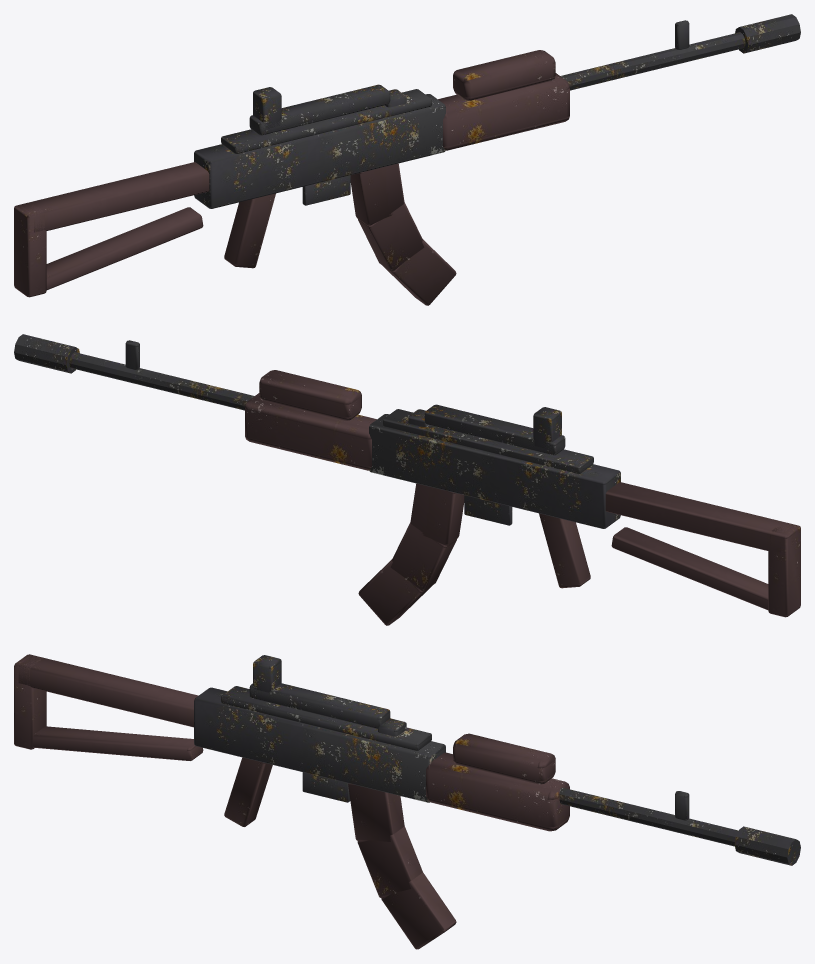
File: held_weapon_an94.glb
3 renders of one model, top to bottom at view 1: azimuth 30°, elevation 25°; view 2: azimuth 150°, elevation 25°; view 3: azimuth 330°, elevation 25°, orthographic.
Visible parts, largest first — view 1: box, box.011, box.002, box.013, box.003, cyl, box.001, box.014, box.012, box.007, box.008, box.006 (+4 smaller); view 2: box, box.011, box.002, box.013, box.003, cyl, box.001, box.014, box.012, box.007, box.008, box.006 (+4 smaller); view 3: box, box.002, box.011, box.013, box.003, cyl, box.009, box.001, box.014, box.008, box.007, box.012 (+4 smaller).
Boxes of the visible parts, x1,y1,x2,y2 form: box: (194, 94, 445, 208); box.011: (19, 162, 209, 232); box.002: (438, 73, 569, 150); box.013: (46, 207, 203, 289); box.003: (453, 50, 555, 100); cyl: (560, 32, 745, 90); box.001: (221, 89, 431, 153); box.014: (249, 84, 390, 135); box.012: (14, 204, 46, 297); box.007: (350, 163, 404, 225); box.008: (358, 203, 424, 271); box.006: (224, 193, 275, 268); box: (369, 414, 620, 528); box.011: (605, 482, 795, 552); box.002: (245, 393, 376, 470); box.013: (611, 527, 768, 609); box.003: (259, 370, 361, 420); cyl: (69, 352, 254, 410); box.001: (383, 409, 593, 473); box.014: (424, 404, 565, 455); box.012: (768, 525, 800, 617); box.007: (410, 483, 464, 545); box.008: (390, 523, 456, 591); box.006: (539, 513, 590, 588); box: (194, 687, 445, 802); box.002: (426, 752, 569, 831); box.011: (18, 655, 198, 727); box.013: (33, 726, 203, 760); box.003: (453, 733, 555, 784); cyl: (559, 787, 798, 860); box.009: (381, 872, 456, 949); box.001: (221, 686, 431, 750); box.014: (249, 683, 390, 728); box.008: (357, 826, 422, 897); box.007: (348, 783, 404, 841); box.012: (14, 654, 46, 749).
Bounding box in the file's own units: 1.18 × 0.3597 × 0.05.
2 materials, 2 textured.
